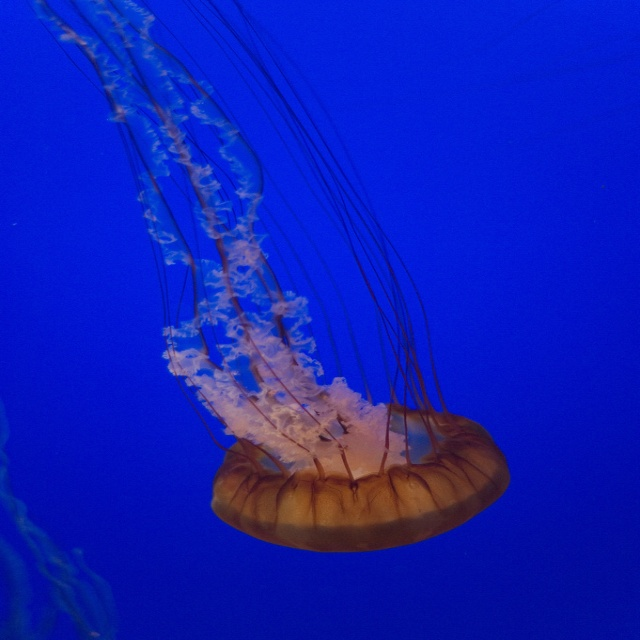Jellyfish: (41, 18, 517, 569)
